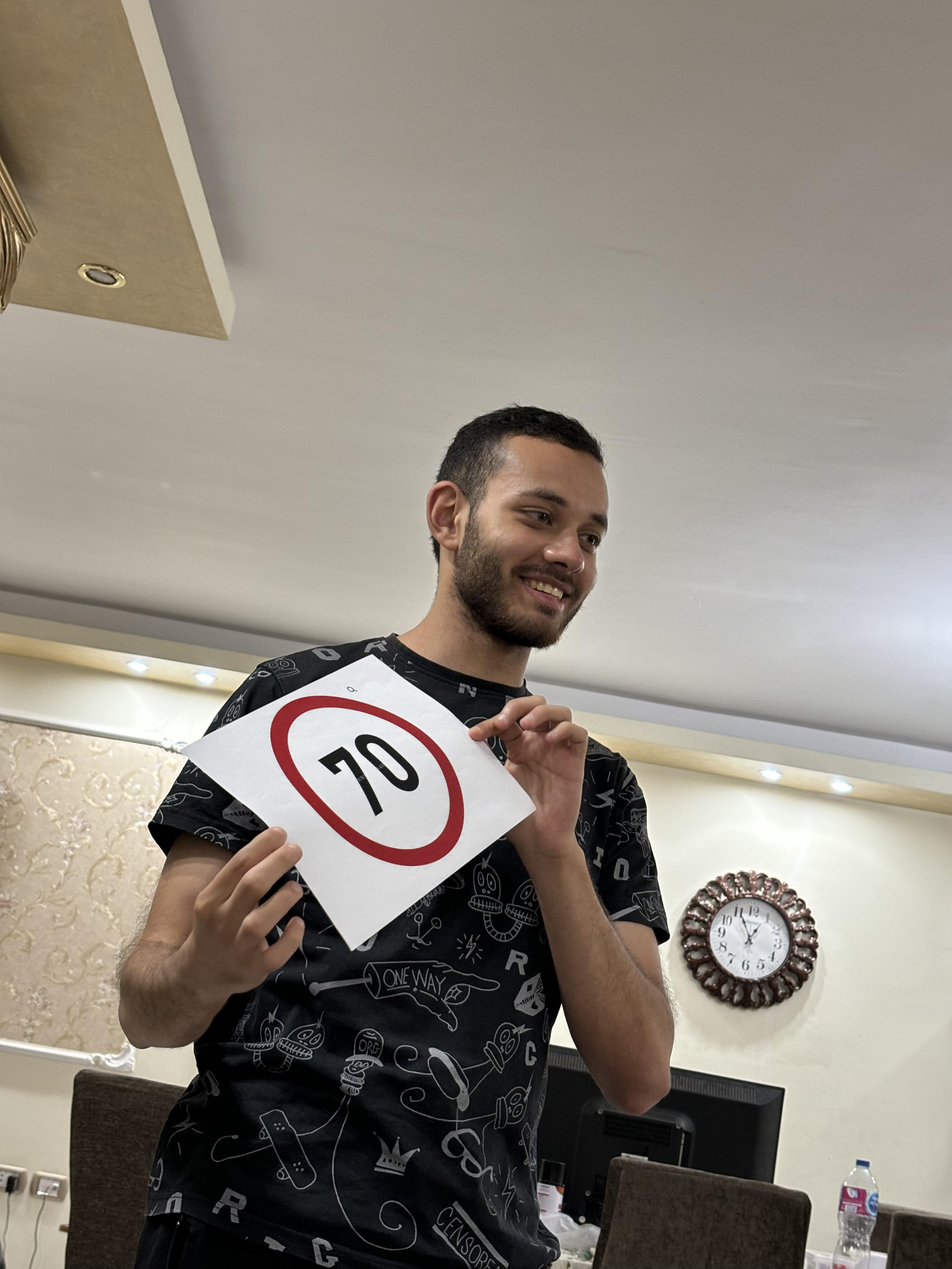70-Speed: (271, 696, 473, 868)
